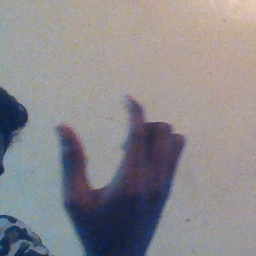U: (48, 81, 187, 243)
